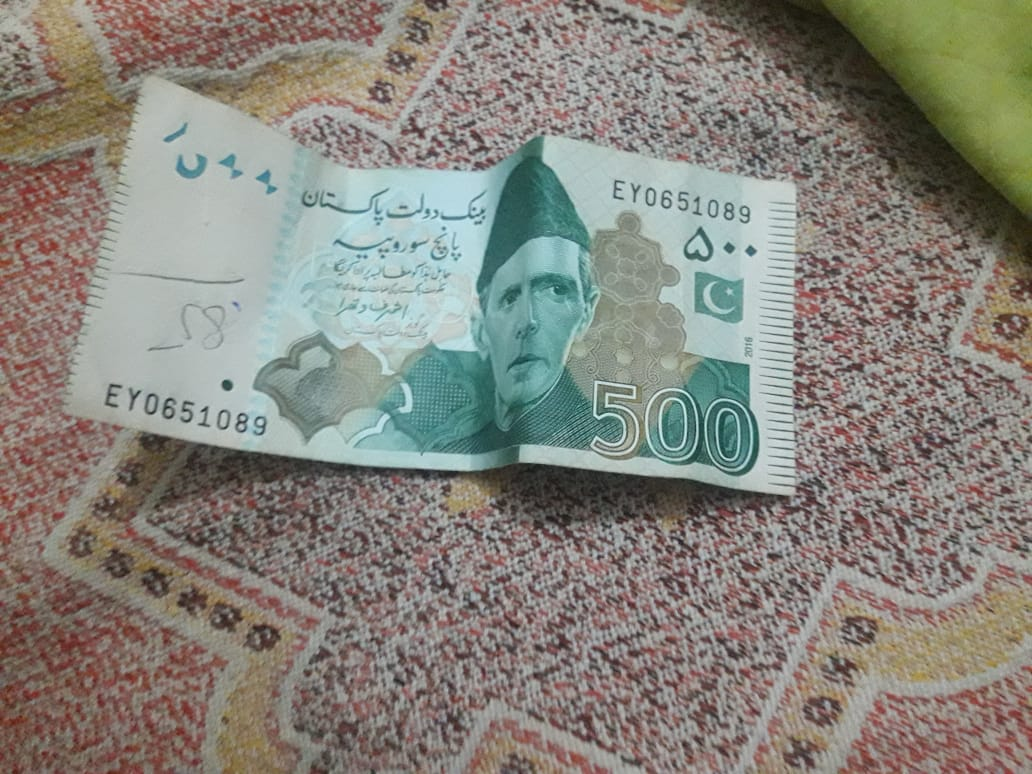500 rupee: (66, 63, 855, 514)
